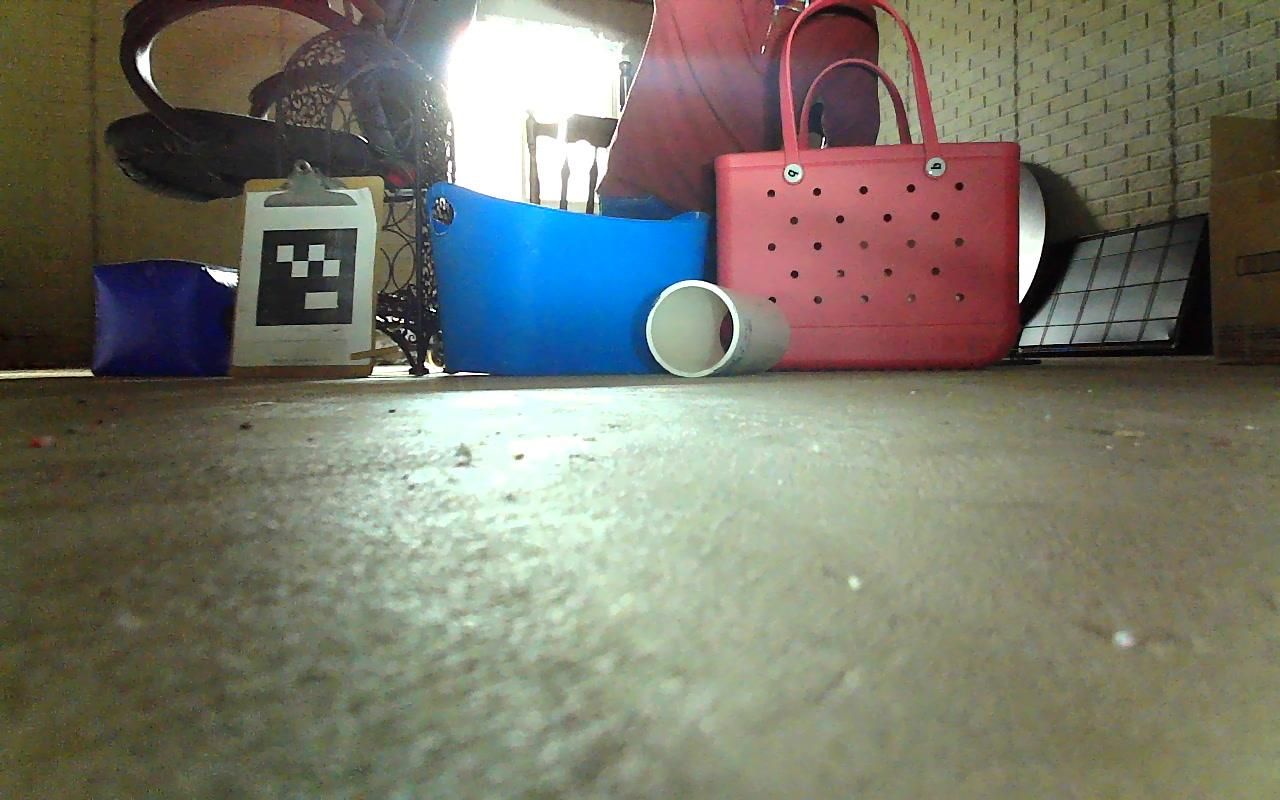coral: (645, 278, 791, 378)
